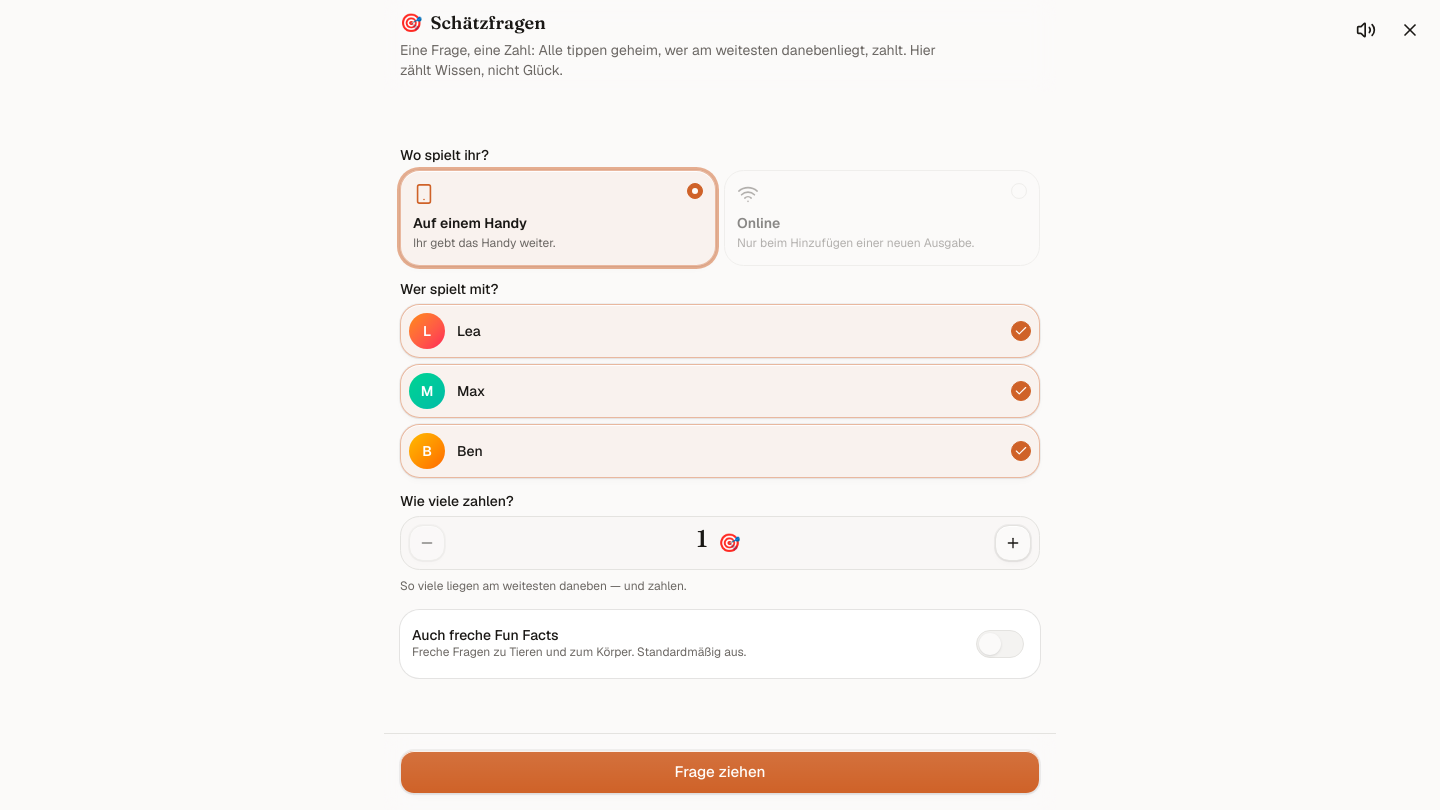
Test: SplitEstimateDialog › setup › needs two players to start
Expected: the button "Frage ziehen" is enabled, [400, 750, 1040, 794]
Click the checkbox labelled "Ben": (427, 450) [400, 424, 1040, 478]
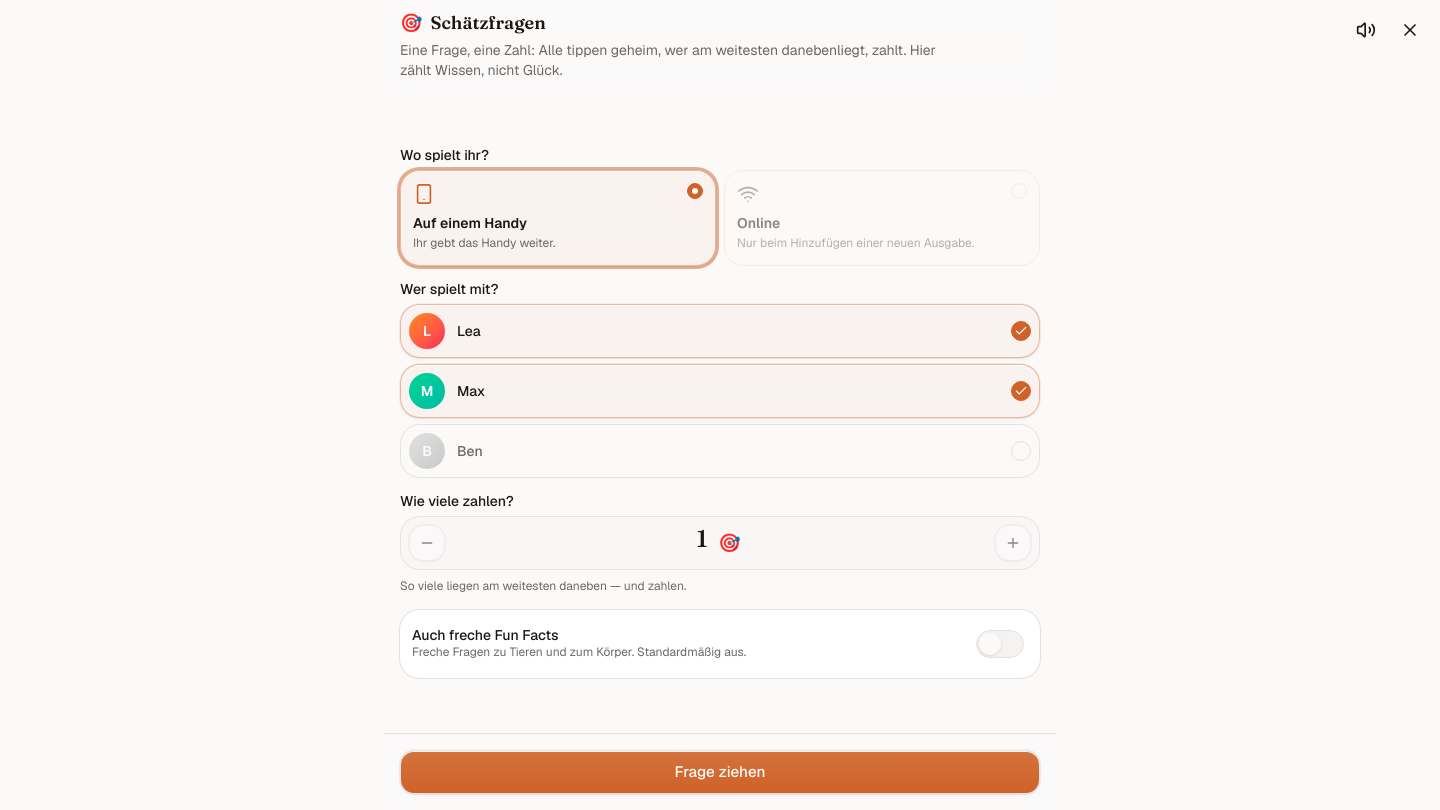
Click the checkbox labelled "Max": (427, 390) [400, 364, 1040, 418]
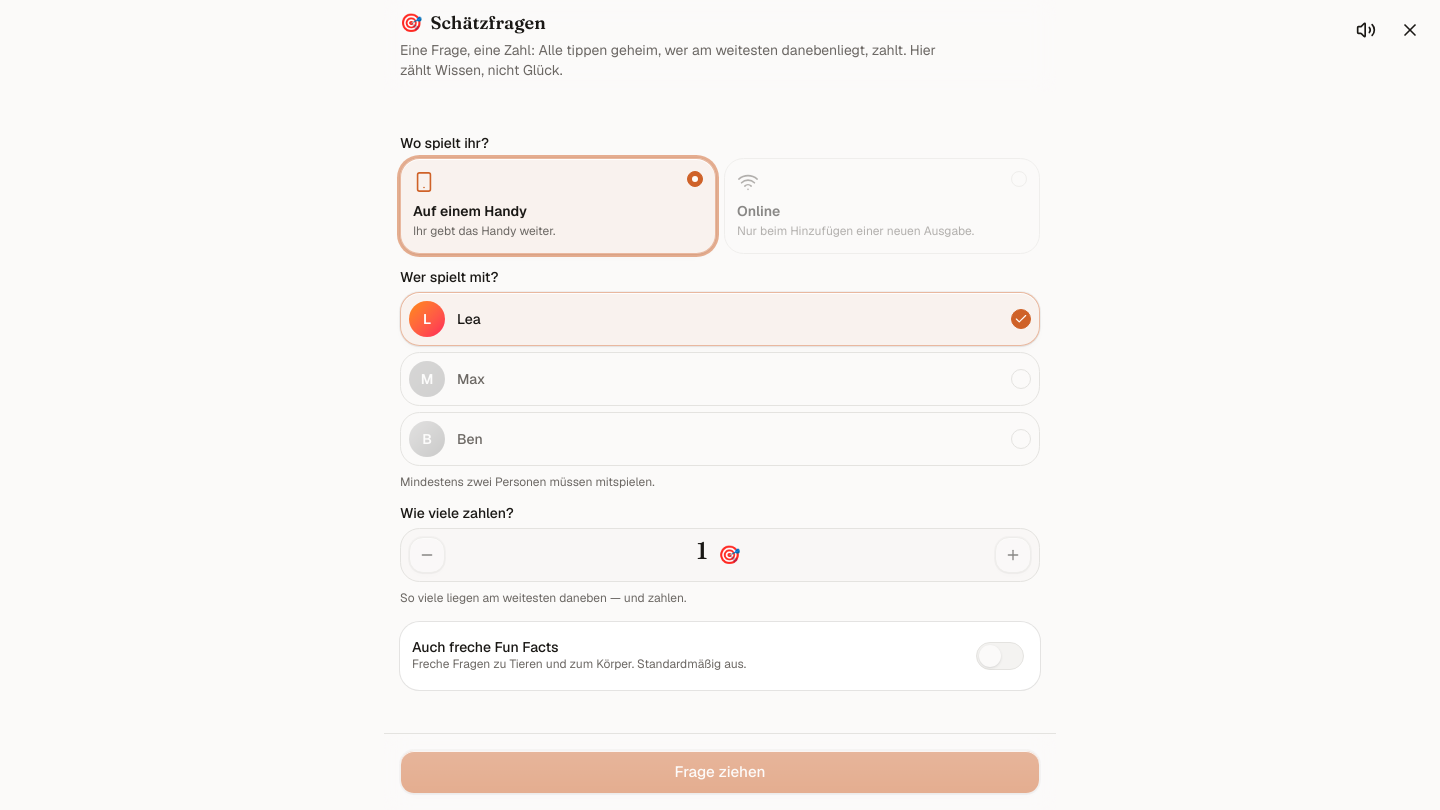
Expected: the button "Frage ziehen" is disabled, [400, 750, 1040, 794]
